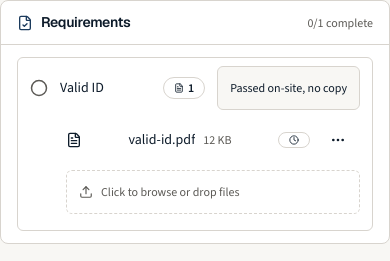
Test: CaseRequirements — one row per uploaded document › keeps per-file actions behind a single menu instead of bare icon buttons
Check: the field labelled "Download" is not shown
Check: the field labelled "Remove" is not shown
Click the button named "File actions" at (338, 140), box [316,118,360,162]
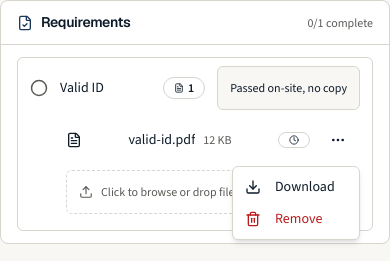
Check: the menu item "Download" is shown, box [245,177,335,196]
Check: the menu item "Remove" is shown, box [245,209,322,228]
